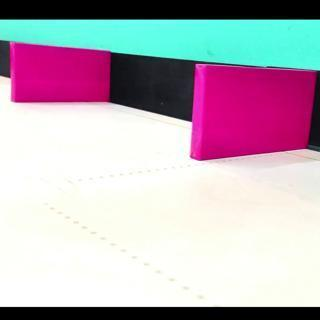xparking: (200, 72, 306, 158), (12, 54, 106, 102)
